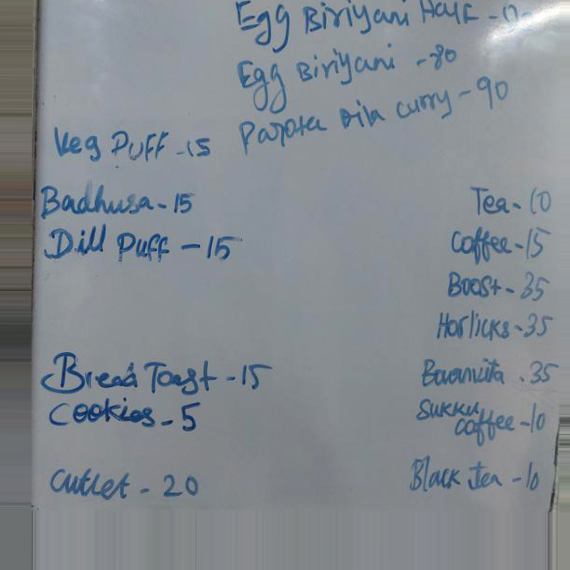Tea - 10: (468, 183, 555, 221)
badhusa -15: (37, 177, 202, 228)
black tea - 10: (402, 451, 545, 500)
boost - 35: (443, 266, 554, 308)
bournvita - 35: (419, 350, 560, 390)
bread toast - 15: (40, 346, 274, 395)
coffee - 15: (445, 227, 552, 266)
cookies - 5: (43, 393, 208, 438)
cutlet - 20: (48, 458, 216, 509)
dill puff - 15: (38, 225, 251, 267)
egg briyani - 80: (232, 45, 397, 98)
egg briyani half -50: (223, 1, 540, 39)
horlicks - 35: (435, 305, 554, 344)
parotta - 90: (236, 97, 458, 148)
sukku coffee - 10: (415, 396, 554, 445)
veg puff - 15: (46, 117, 223, 172)
